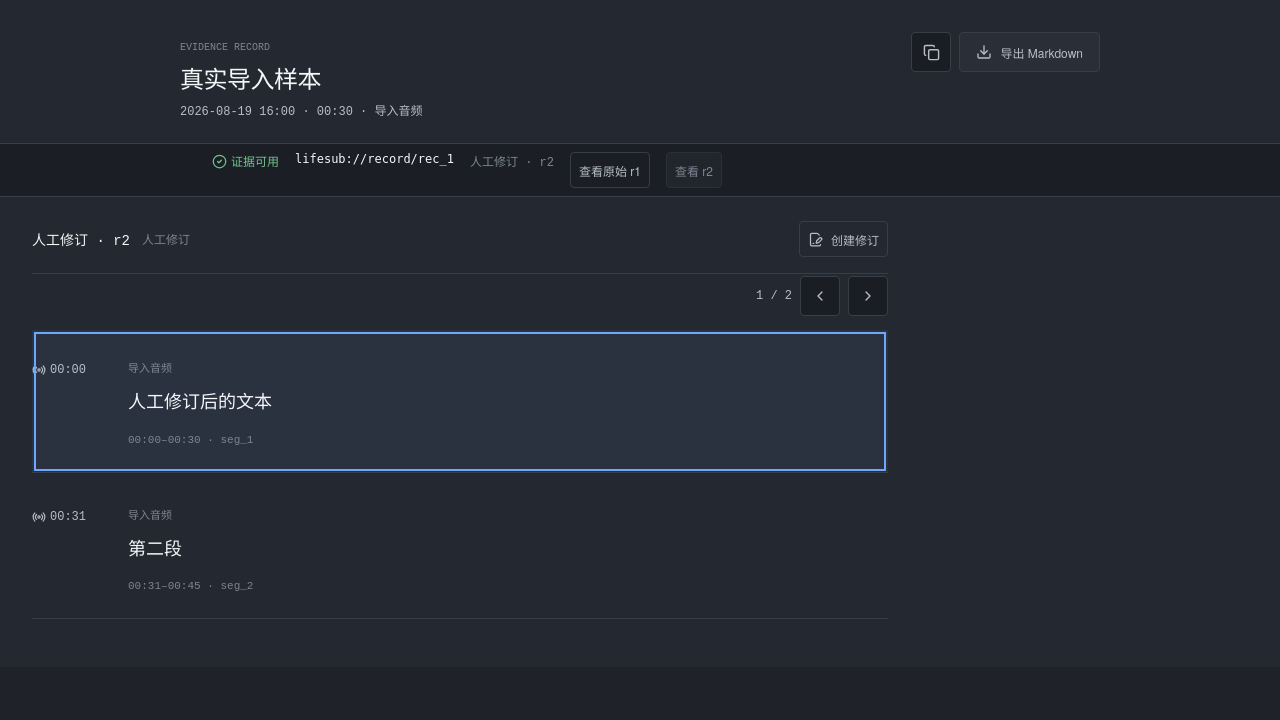
Test: TranscriptView › moves between transcript matches and reports the current match position
Check: the text "1 / 2" is shown, box [756,289,792,303]
Click the button named "下一处命中" at [868, 296], box [848,276,888,316]
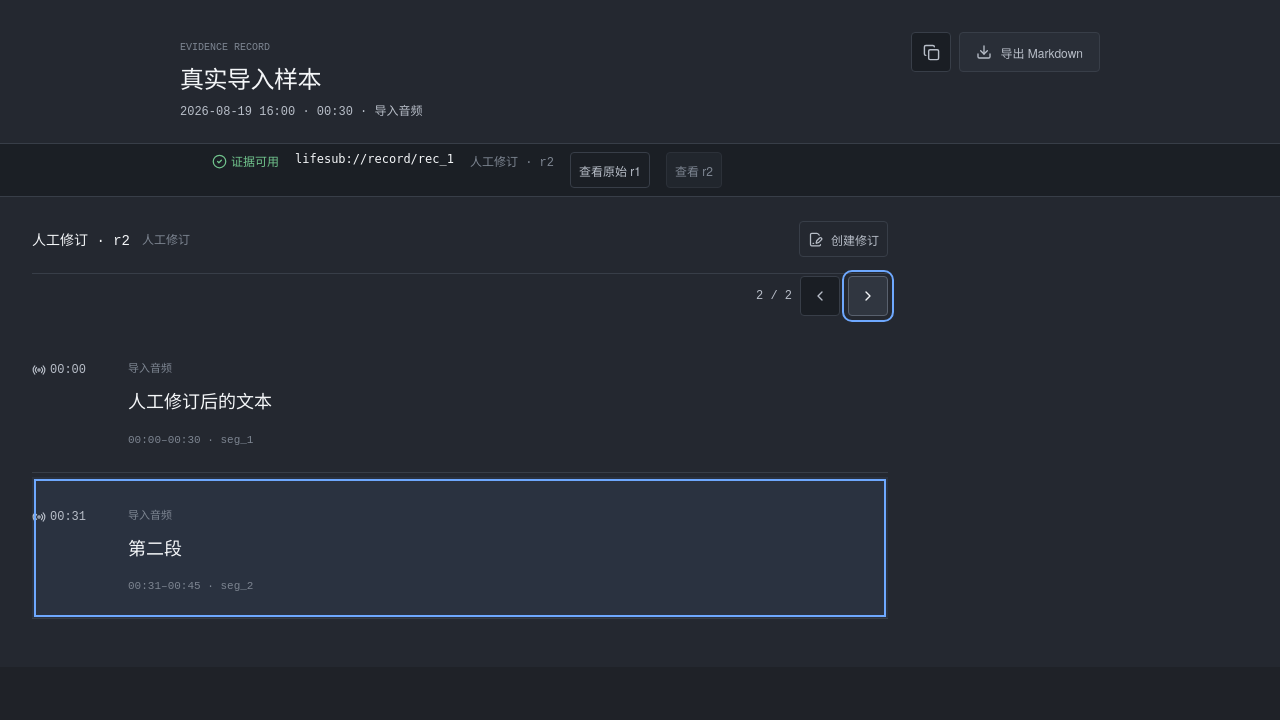
Check: the text "2 / 2" is shown, box [756,289,792,303]
Click the button named "上一处命中" at [820, 296], box [800,276,840,316]
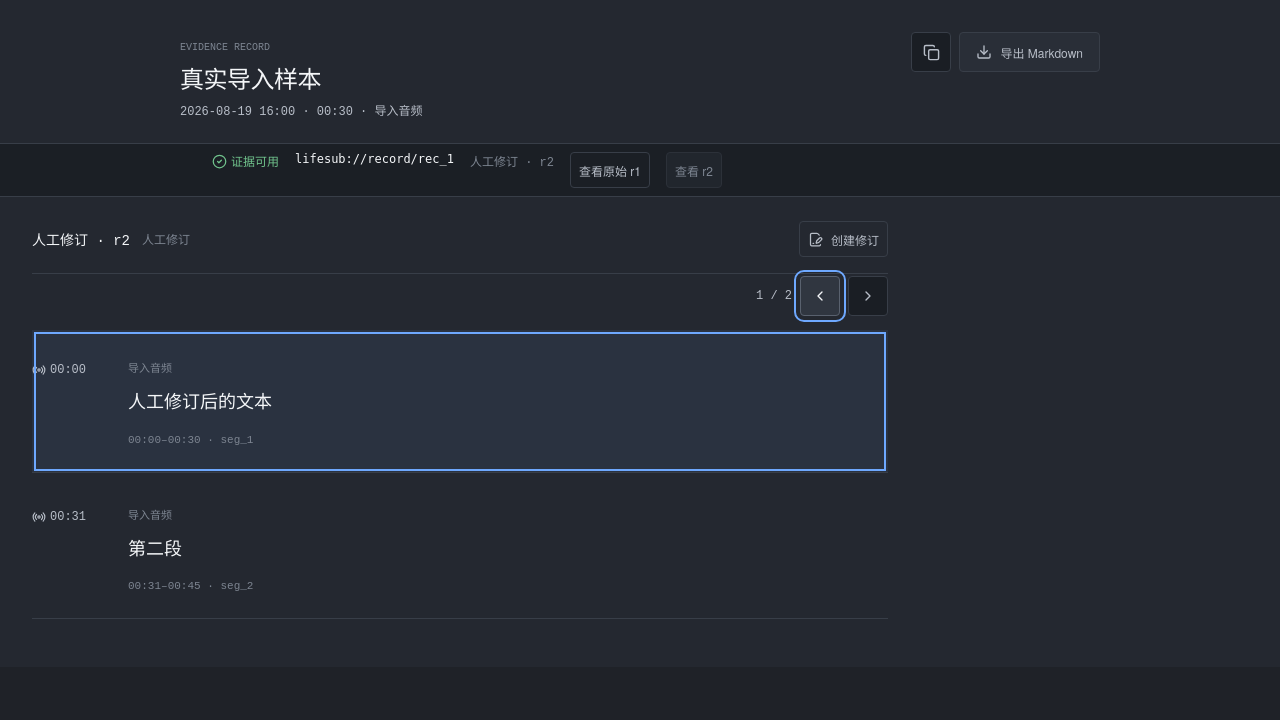
Check: the text "1 / 2" is shown, box [756,289,792,303]
